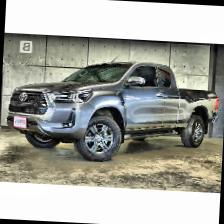NON-EV: (6, 53, 223, 169)
